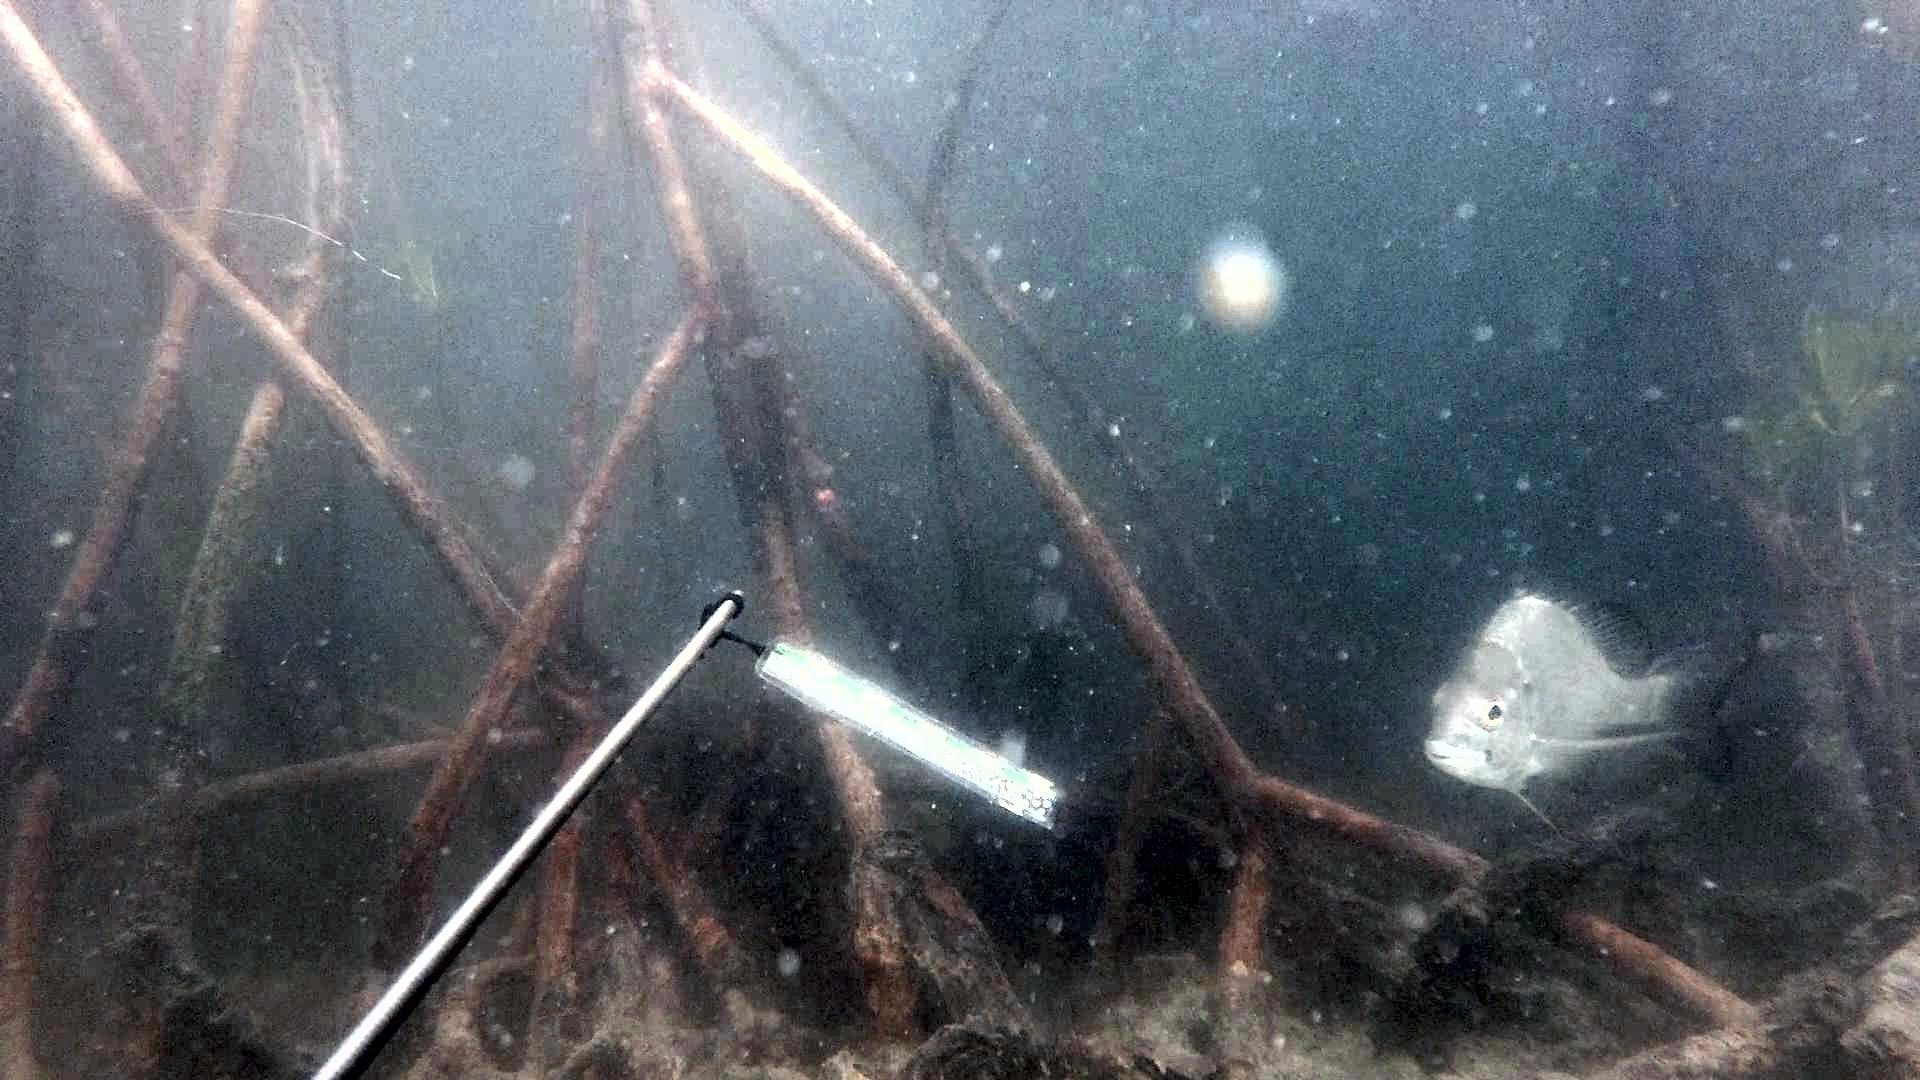acanthopagrus palmaris: (1421, 580, 1769, 839)
